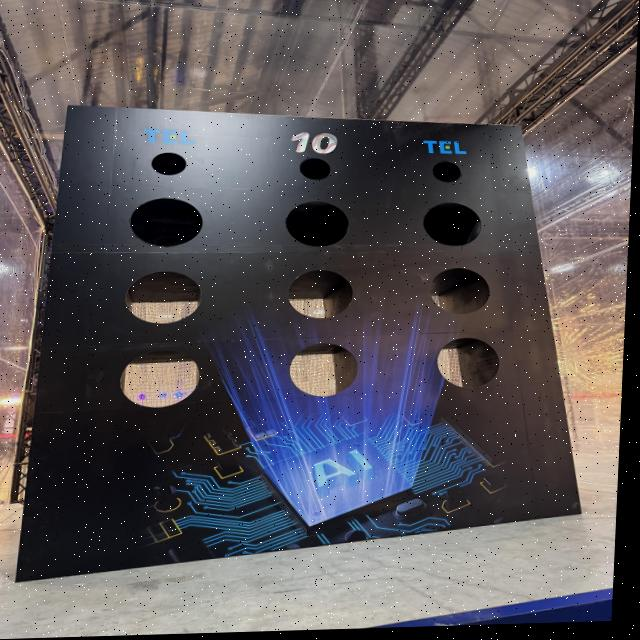hole: (119, 348, 200, 408), (125, 270, 203, 325), (129, 196, 204, 248), (289, 342, 359, 397), (286, 269, 355, 320), (437, 337, 501, 389), (285, 200, 352, 248), (429, 267, 490, 316), (423, 202, 482, 247), (151, 152, 186, 176), (298, 158, 332, 180), (432, 160, 462, 183)
